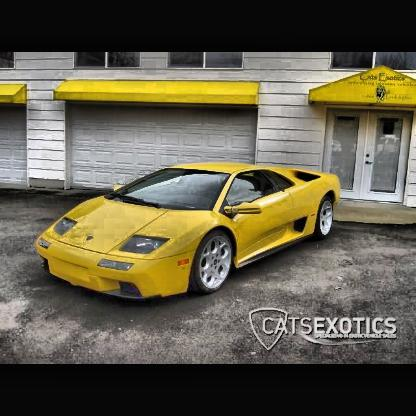Lamborghini Diablo Coupe 2001: (38, 166, 343, 299)
